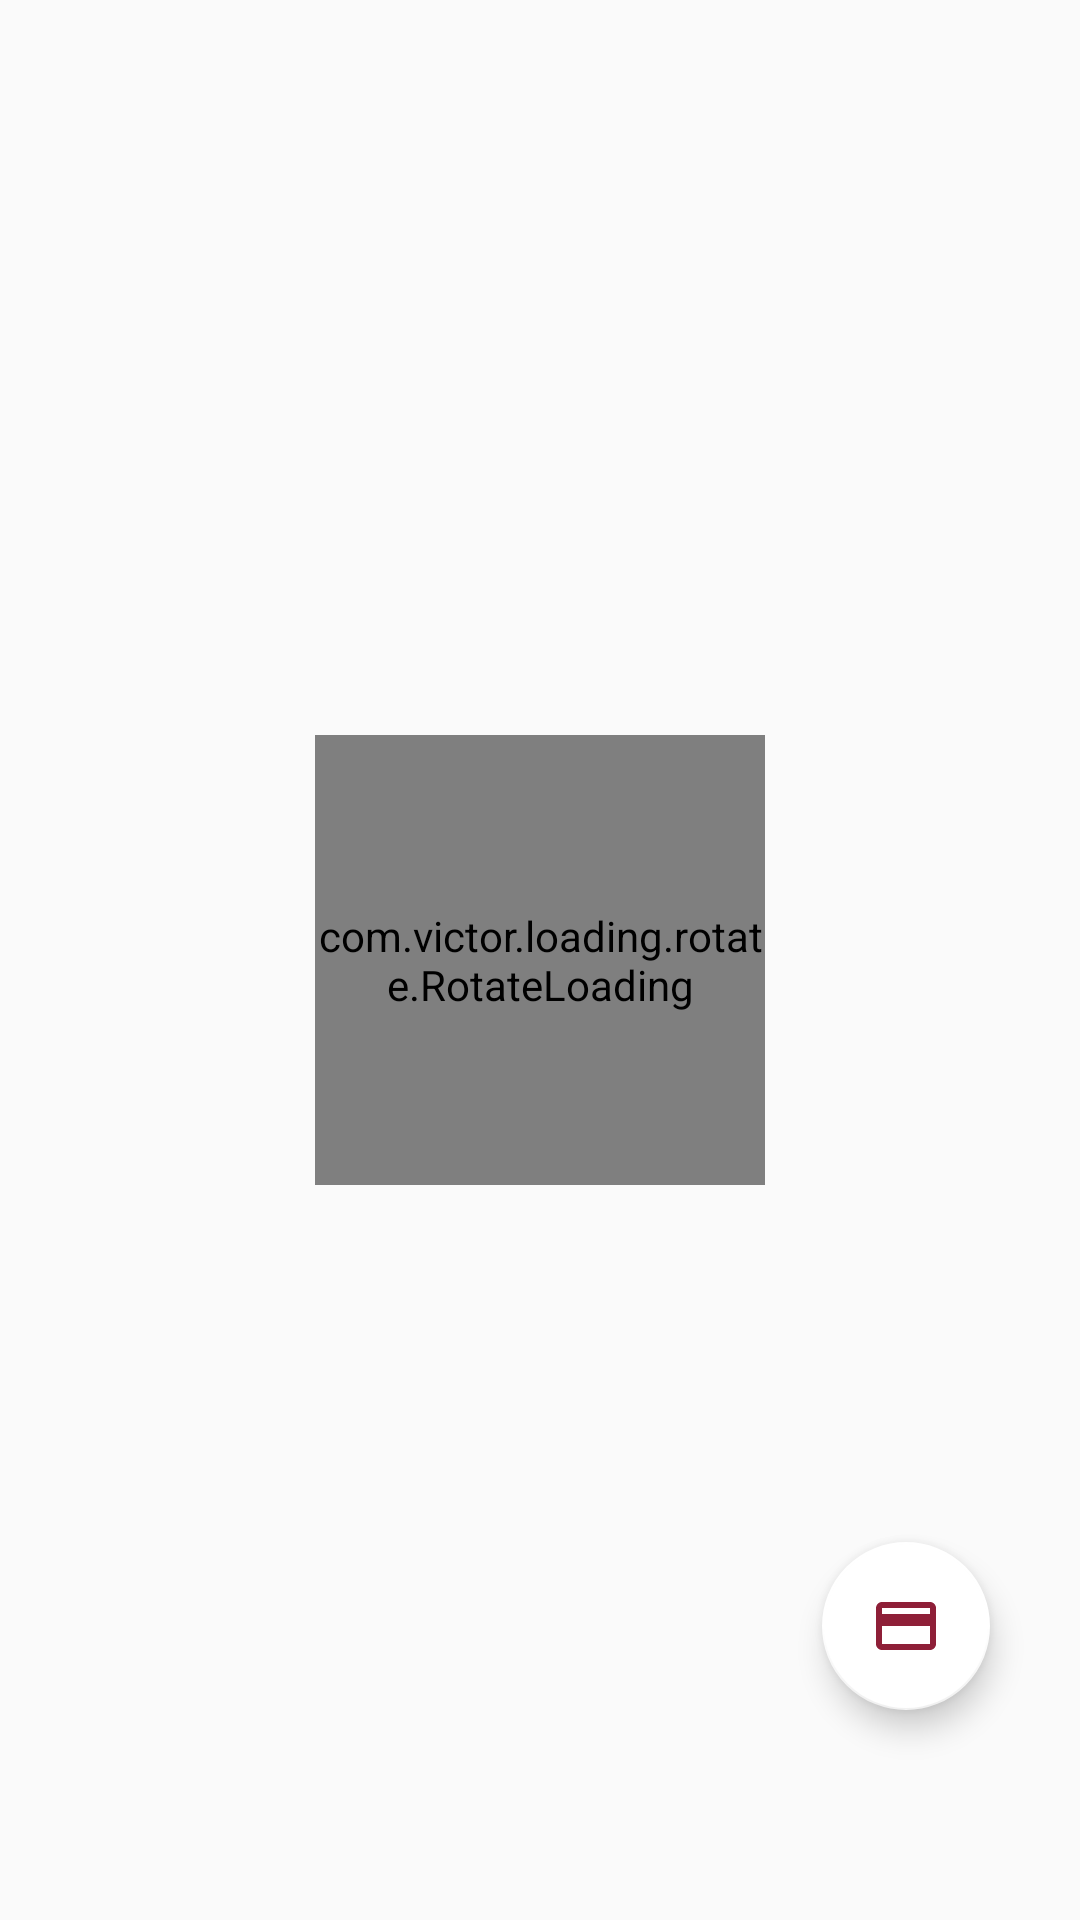

Icon bounding boxes for this 1080 x 1920 phone screenshot, format [x1,y1,x2,y2]:
payment: [826,1602,936,1658]
